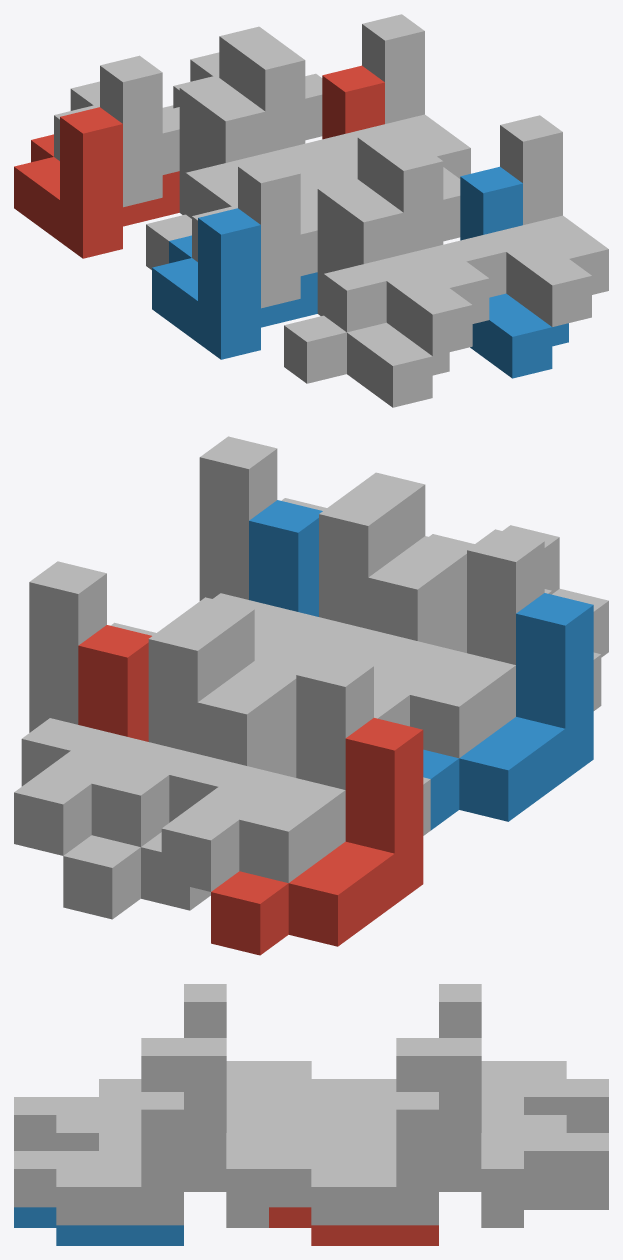
Rendered from tiling.obj.
The picture shows the model from 3 angles, top to bottom: view 1: azimuth 30°, elevation 25°; view 2: azimuth 150°, elevation 25°; view 3: azimuth 270°, elevation 25°; orthographic projection. The views are drawn at different scales.
Parts seen in each view (by area): view 1: copy_2_domain_4, copy_2_domain_8, copy_1_domain_1, copy_1_domain_2, copy_2_domain_2, copy_2_domain_3, copy_1_domain_4, copy_1_domain_3, copy_2_domain_6, copy_2_domain_7, copy_2_domain_1, copy_1_domain_7 (+4 smaller); view 2: copy_1_domain_3, copy_1_domain_7, copy_1_domain_1, copy_1_domain_2, copy_1_domain_4, copy_1_domain_5, copy_1_domain_8, copy_2_domain_7, copy_2_domain_8, copy_2_domain_5, copy_2_domain_6, copy_1_domain_6 (+4 smaller); view 3: copy_1_domain_7, copy_2_domain_7, copy_2_domain_8, copy_1_domain_8, copy_1_domain_3, copy_2_domain_4, copy_1_domain_4, copy_2_domain_3, copy_1_domain_5, copy_2_domain_5, copy_2_domain_6, copy_1_domain_6.
Boxes of the visible parts, bbox=[...] form: copy_2_domain_4: bbox=[323, 144, 489, 356]; copy_2_domain_8: bbox=[444, 115, 608, 326]; copy_1_domain_1: bbox=[14, 107, 179, 258]; copy_1_domain_2: bbox=[152, 208, 317, 359]; copy_2_domain_2: bbox=[284, 196, 449, 407]; copy_2_domain_3: bbox=[185, 43, 350, 218]; copy_1_domain_4: bbox=[192, 156, 317, 308]; copy_1_domain_3: bbox=[54, 55, 179, 207]; copy_2_domain_6: bbox=[460, 166, 568, 378]; copy_2_domain_7: bbox=[306, 14, 470, 178]; copy_2_domain_1: bbox=[146, 95, 265, 269]; copy_1_domain_7: bbox=[173, 26, 322, 140]; copy_1_domain_3: bbox=[161, 654, 373, 891]; copy_1_domain_7: bbox=[14, 618, 226, 855]; copy_1_domain_1: bbox=[211, 718, 423, 955]; copy_1_domain_2: bbox=[423, 593, 593, 830]; copy_1_domain_4: bbox=[340, 529, 544, 758]; copy_1_domain_5: bbox=[63, 681, 275, 919]; copy_1_domain_8: bbox=[213, 493, 396, 668]; copy_2_domain_7: bbox=[29, 561, 155, 732]; copy_2_domain_8: bbox=[199, 436, 326, 600]; copy_2_domain_5: bbox=[78, 625, 151, 741]; copy_2_domain_6: bbox=[249, 500, 322, 616]; copy_1_domain_6: bbox=[368, 557, 445, 647]; copy_1_domain_7: bbox=[439, 1038, 608, 1207]; copy_2_domain_7: bbox=[269, 1092, 438, 1225]; copy_2_domain_8: bbox=[14, 1092, 183, 1225]; copy_1_domain_8: bbox=[184, 1038, 353, 1207]; copy_1_domain_3: bbox=[439, 984, 608, 1132]; copy_2_domain_4: bbox=[14, 1038, 183, 1150]; copy_1_domain_4: bbox=[184, 984, 353, 1114]; copy_2_domain_3: bbox=[269, 1038, 438, 1132]; copy_1_domain_5: bbox=[439, 1171, 608, 1227]; copy_2_domain_5: bbox=[269, 1207, 438, 1245]; copy_2_domain_6: bbox=[14, 1207, 183, 1245]; copy_1_domain_6: bbox=[184, 1171, 268, 1227].
Bounding box in the file's own units: 8 × 4 × 14.
